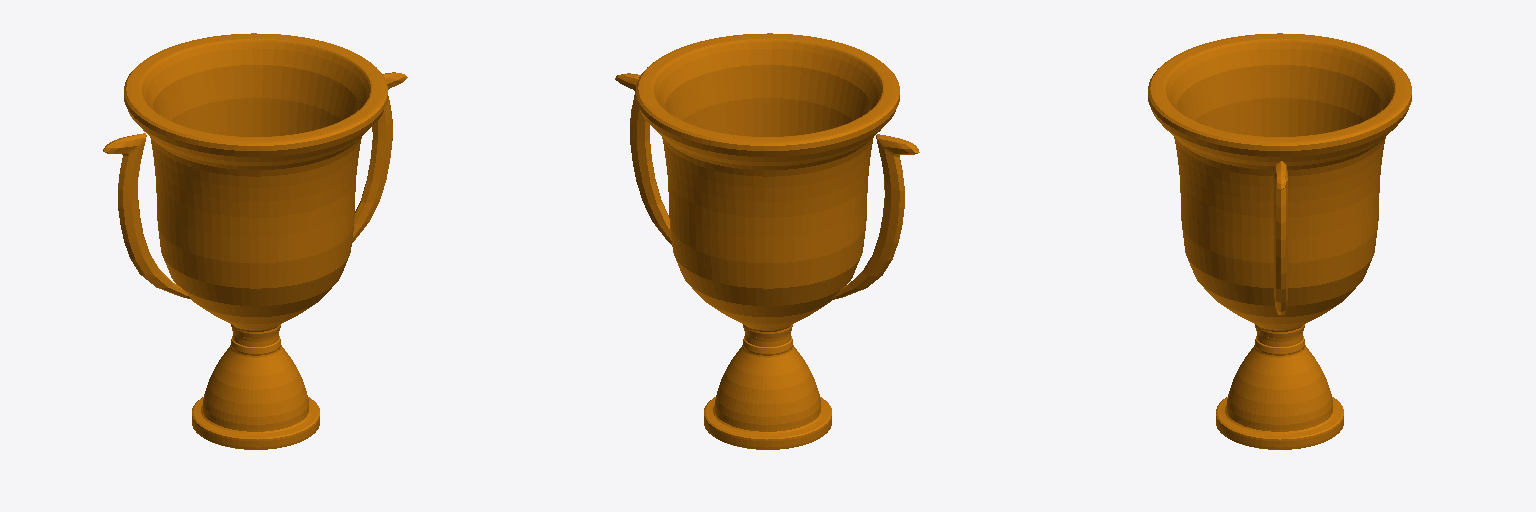
The model's file is trophy.obj.
3 renders of one model, left to right at view 1: azimuth 30°, elevation 25°; view 2: azimuth 150°, elevation 25°; view 3: azimuth 270°, elevation 25°, orthographic.
Visible parts, largest first — view 1: Plane; view 2: Plane; view 3: Plane.
Boxes of the visible parts, x1,y1,x2,y2 form: Plane: [103, 33, 407, 449]; Plane: [615, 33, 919, 449]; Plane: [1148, 33, 1411, 449].
Bounding box in the file's own units: 2.47 × 2.6 × 1.86.